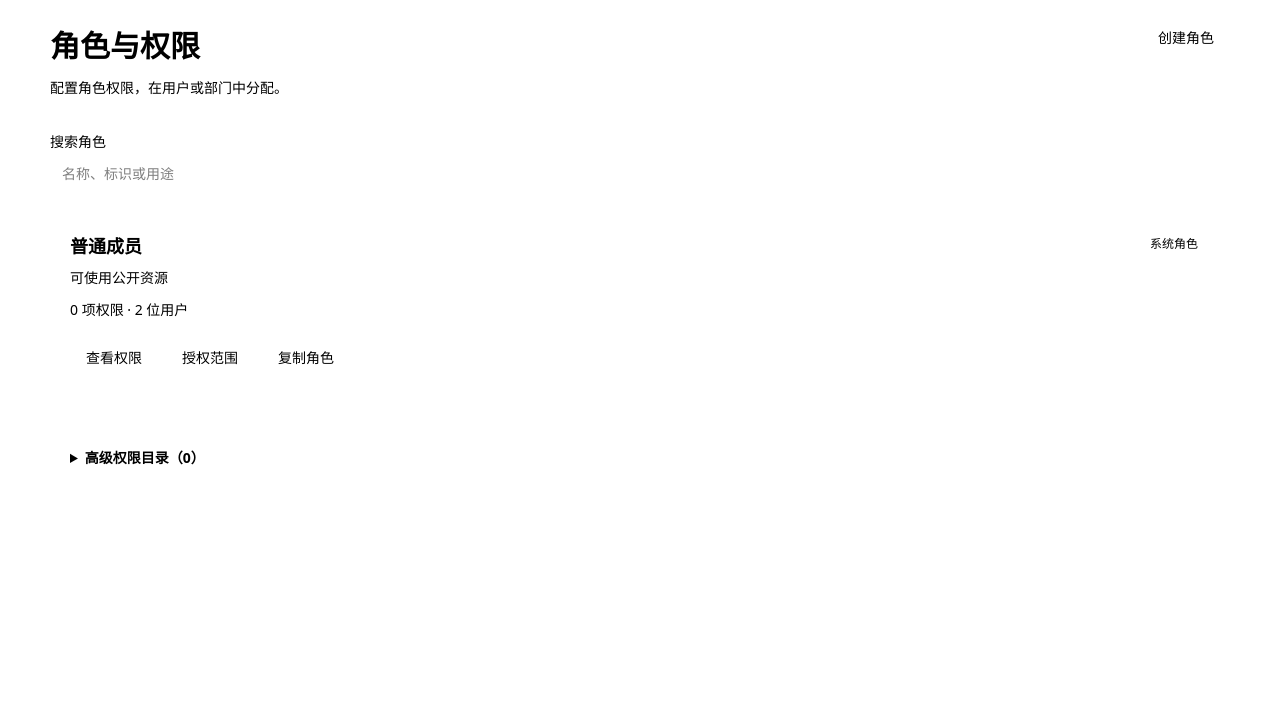
Test: 角色管理页面 › 三页授权引用持续保留已加载结果
Step 1. Click the button "授权范围" → (210,358), box [166,340,254,376]
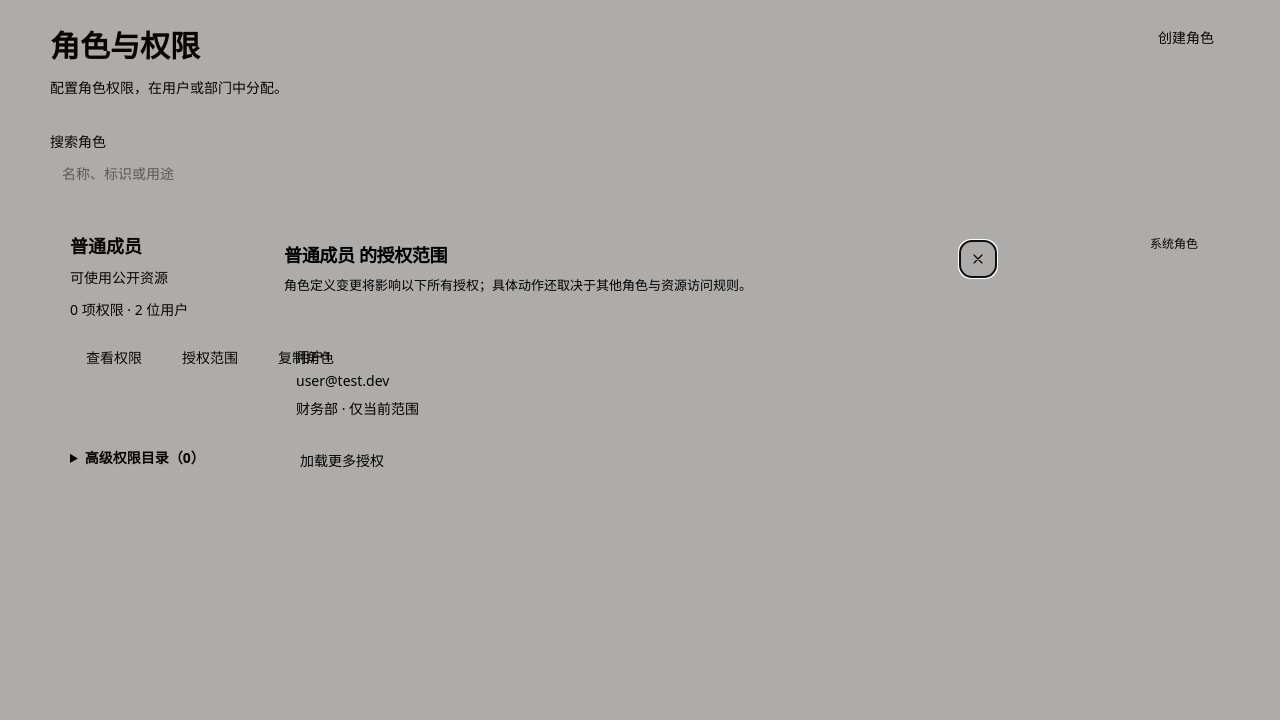
Now the text "用户1" is shown, box [296,347,332,366]
Step 2. Click the button "加载更多授权" → (342,461), box [284,443,400,479]
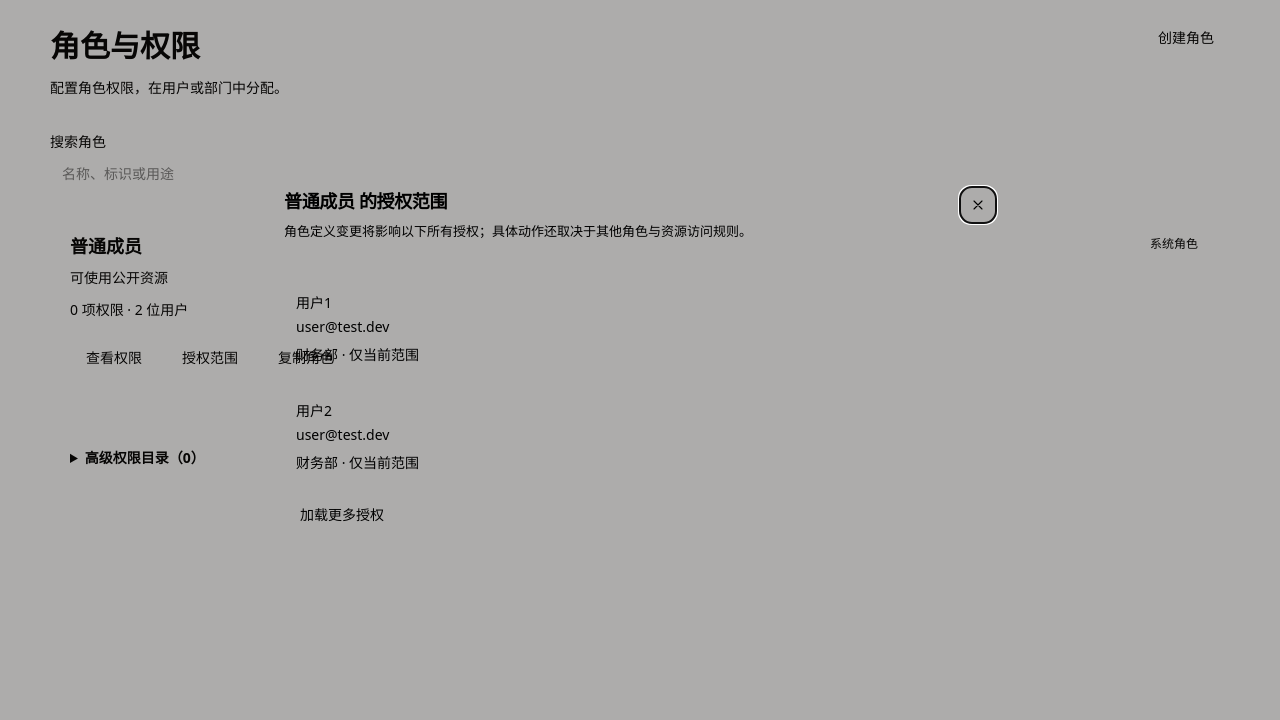
Now the text "用户2" is shown, box [296,401,332,420]
Step 3. Click the button "加载更多授权" → (342,515), box [284,497,400,533]
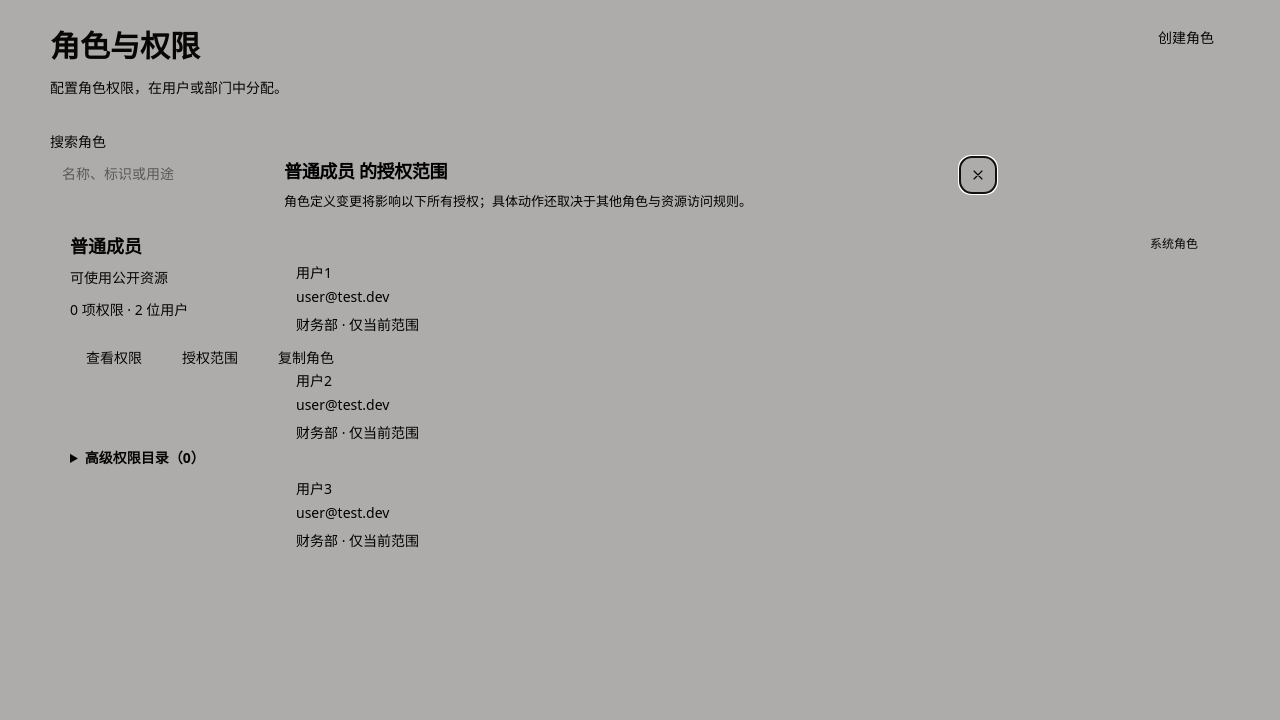
Now the text "用户1" is shown, box [296,263,332,282]
Now the text "用户2" is shown, box [296,371,332,390]
Now the text "用户3" is shown, box [296,479,332,498]
